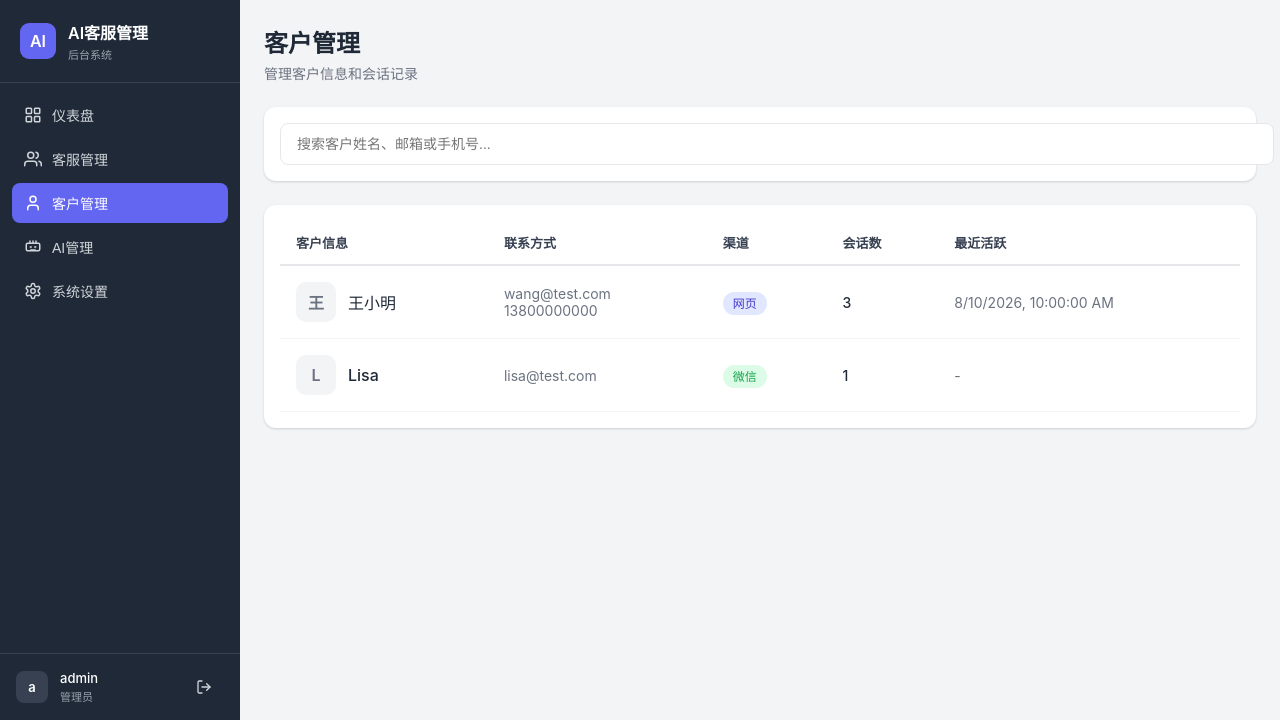
ContactsPage 客户管理 › 按姓名/邮箱/手机号搜索过滤
Expected: the text "王小明" is shown, left=348, top=290, right=396, bottom=314
Step 1. Type "13800000000" into the field with placeholder "搜索客户姓名、邮箱或手机号..." → [777, 144], box left=280, top=123, right=1274, bottom=165
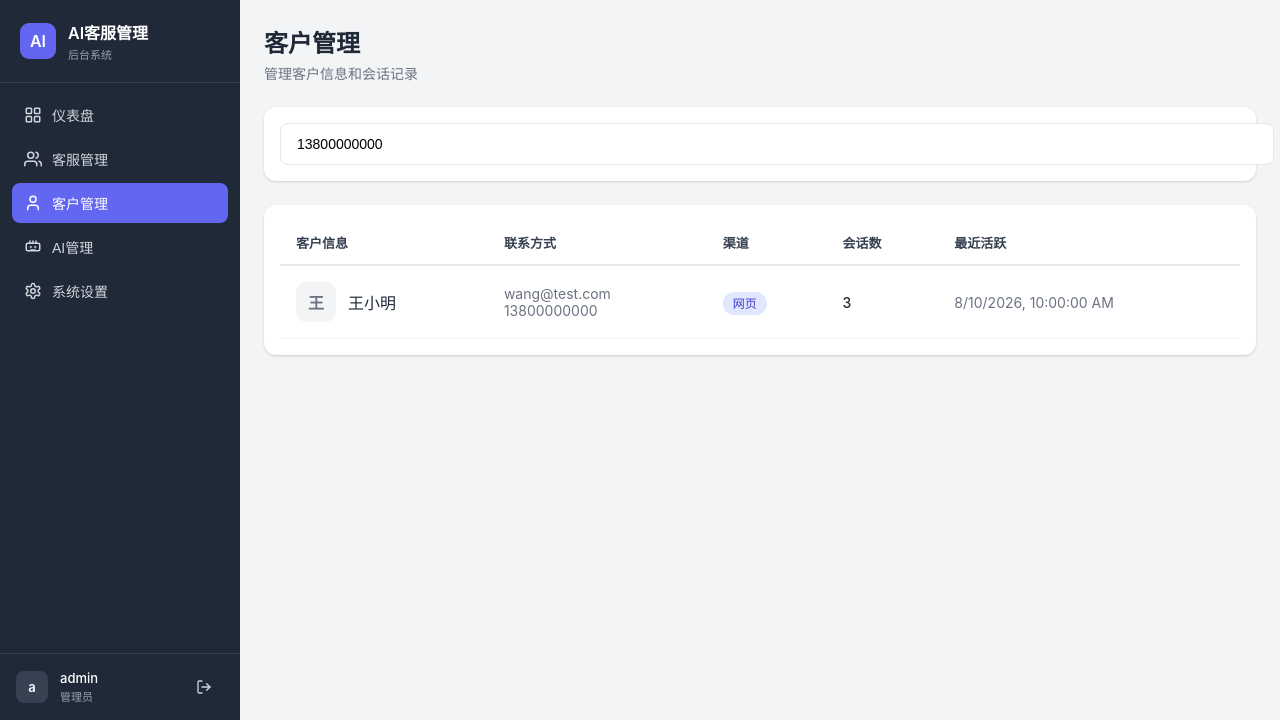
Expected: the text "王小明" is shown, left=348, top=290, right=396, bottom=314
Result: the text "Lisa" is gone
